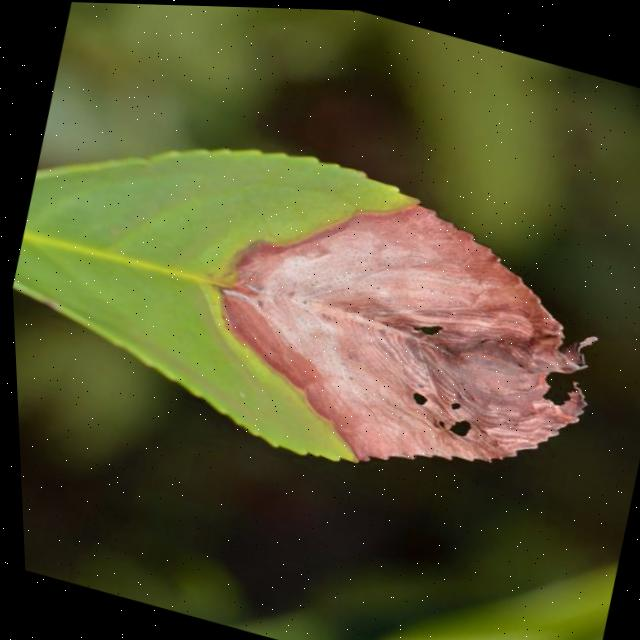Tea cloud leaf blight: (177, 152, 631, 520)
